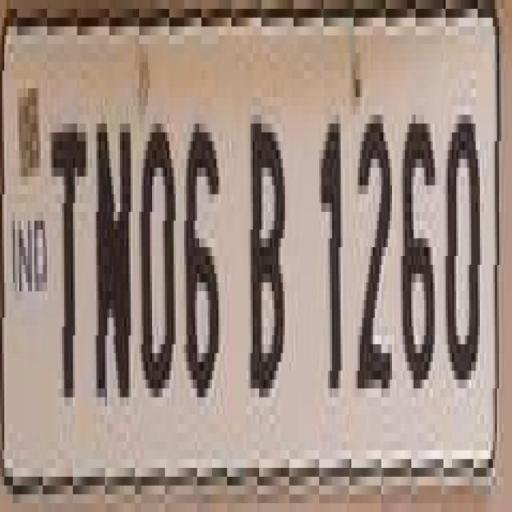number plate: (0, 0, 493, 503)
